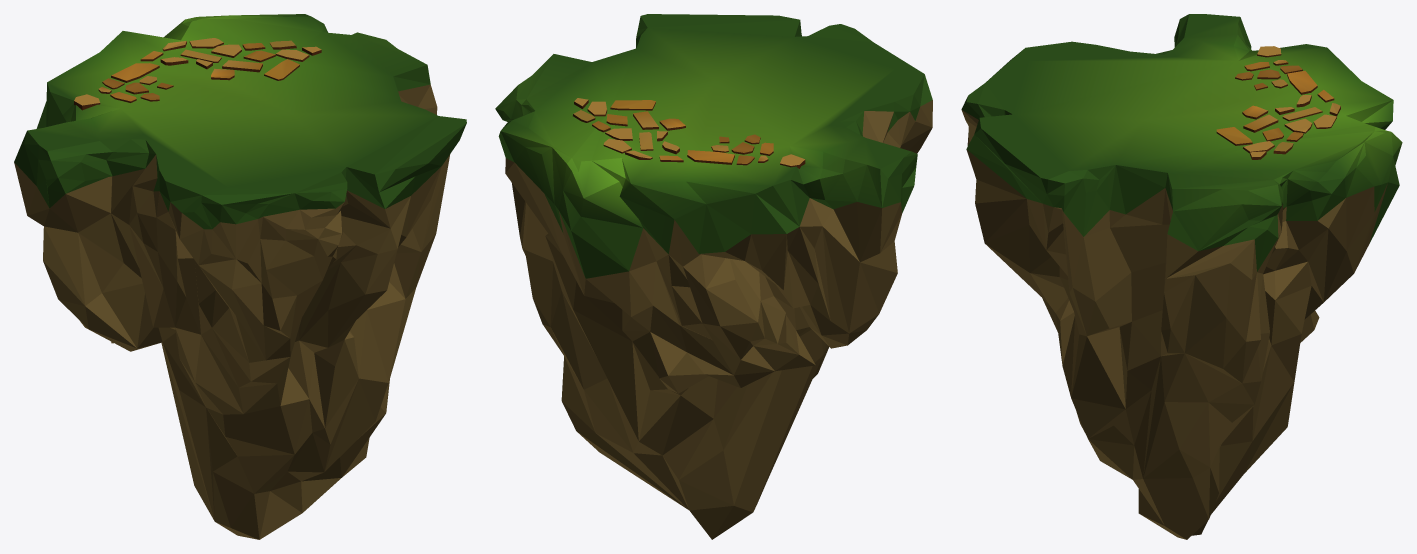
File: ENV_RTS_MainIsland_01.fbx
3 views of the same model, side by side, from view 1: azimuth 30°, elevation 25°; view 2: azimuth 150°, elevation 25°; view 3: azimuth 270°, elevation 25° (orthographic). The views are drawn at different scales.
Parts seen in each view (by area): view 1: ENV_RTS_MainIsland_01; view 2: ENV_RTS_MainIsland_01; view 3: ENV_RTS_MainIsland_01.
Part boxes in pixels (<box>): ENV_RTS_MainIsland_01: <box>14,14,466,539</box>; ENV_RTS_MainIsland_01: <box>495,14,932,539</box>; ENV_RTS_MainIsland_01: <box>961,14,1402,539</box>.
Size of the model in its own units: 2600 by 2874 by 2671.
